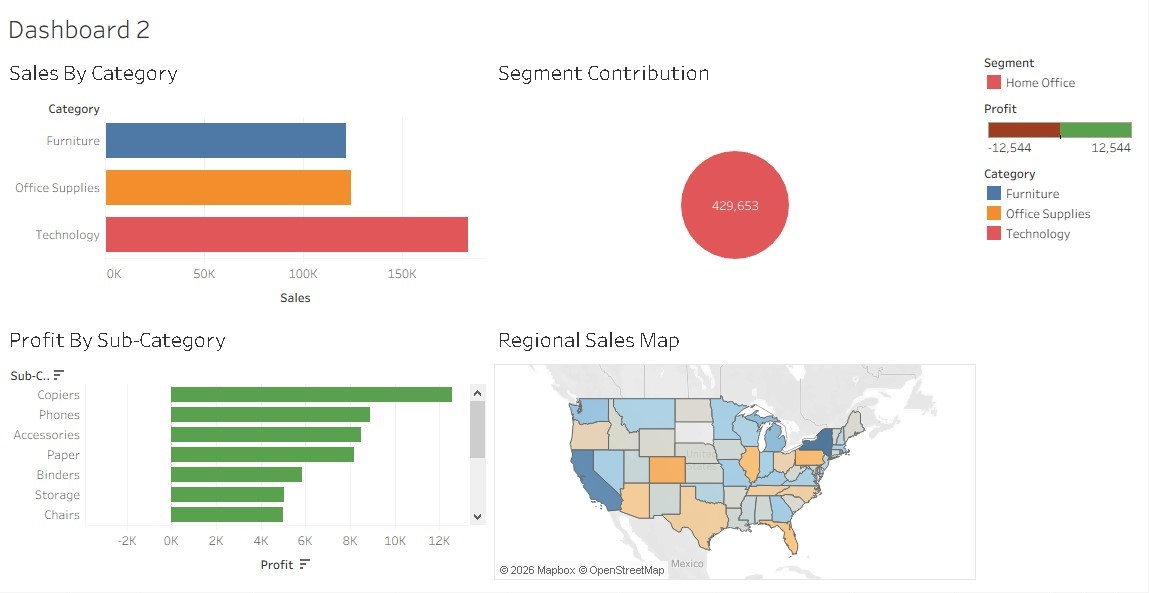

This screenshot's page, from the dashboard's own definition file:
{"tool":"tableau","page":{"name":"Dashboard 2","canvas":[1000,1000],"units":"permille","ordinal":1},"visuals":[{"type":"title","box":[6.9,13.5,986.1,70.9]},{"type":"worksheet","title":"Sales By Category","mark":"Bar","rows":["Category"],"cols":["Sales"],"box":[6.9,84.5,423.8,451]},{"type":"worksheet","title":"segment contribution","mark":"Pie","box":[430.7,84.5,423.8,451]},{"type":"legend","title":"segment contribution","param":"[federated.0vf1kmc15mmqip19fl3xx11b5awy].[none:Segment:nk]","box":[854.5,84.5,138.5,77.7]},{"type":"legend","title":"Profit By Sub-category","param":"[federated.0vf1kmc15mmqip19fl3xx11b5awy].[sum:Profit:qk]","box":[854.5,162.2,138.5,109.8]},{"type":"legend","title":"Sales By Category","param":"[federated.0vf1kmc15mmqip19fl3xx11b5awy].[none:Category:nk]","box":[854.5,271.9,138.5,145.3]},{"type":"worksheet","title":"Profit By Sub-category","mark":"Automatic","rows":["Sub-Category"],"cols":["Profit"],"box":[6.9,535.5,423.8,451]},{"type":"worksheet","title":"Reginal Sales Map","mark":"Automatic","box":[430.7,535.5,423.8,451]}]}

Visuals, with their boxes on the dashboard's canvas, which has no fixed pixel size, in thousandths of its width and height (x1, y1, x2, y2). These are canvas units, not pixel positions in the 1149x593 screenshot, which may show the page scaled, cropped or inside an application window:
title: 7,14,993,84
"Sales By Category" worksheet (Bar marks): 7,84,431,536
"segment contribution" worksheet (Pie marks): 431,84,854,536
"segment contribution" legend: 854,84,993,162
"Profit By Sub-category" legend: 854,162,993,272
"Sales By Category" legend: 854,272,993,417
"Profit By Sub-category" worksheet: 7,536,431,986
"Reginal Sales Map" worksheet: 431,536,854,986
